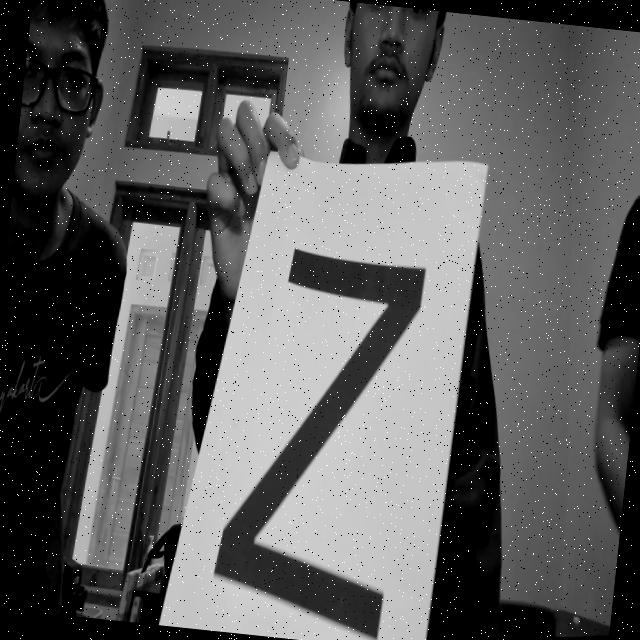z: (195, 210, 463, 640)
